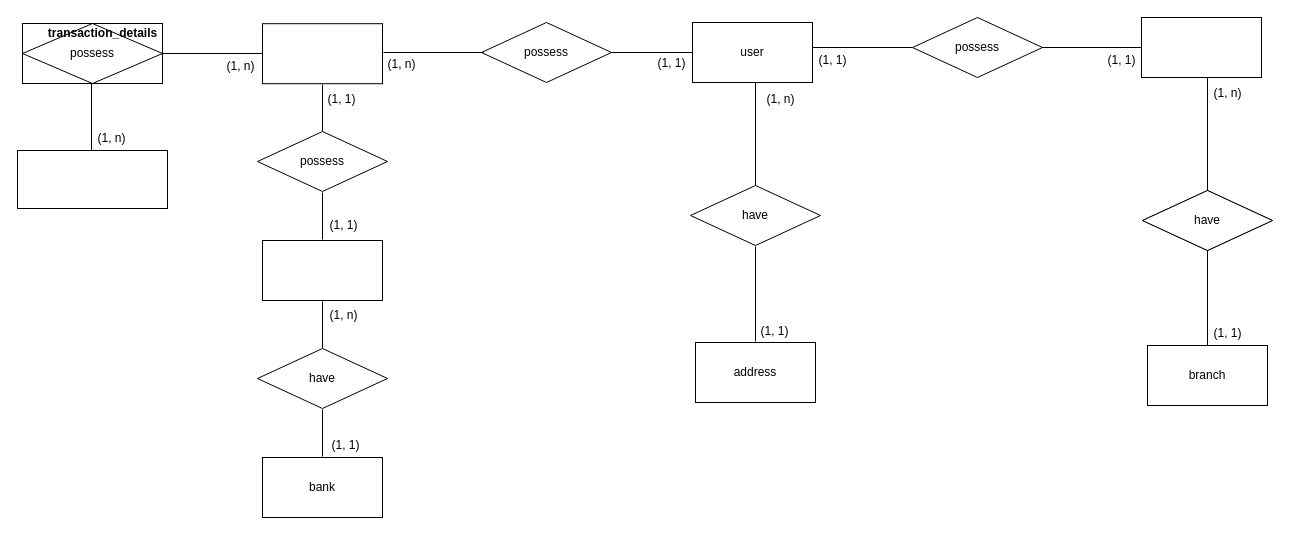
Some shapes in this 1290 by 535 pixel diagram are drawn without their labels. Here are the shapes that lost their labels. From the top down, the box of each, then its label:
(262, 23, 382, 84): transaction
(1140, 16, 1262, 78): account
(16, 150, 168, 208): financial_asset_catalog
(262, 240, 382, 300): transfer
